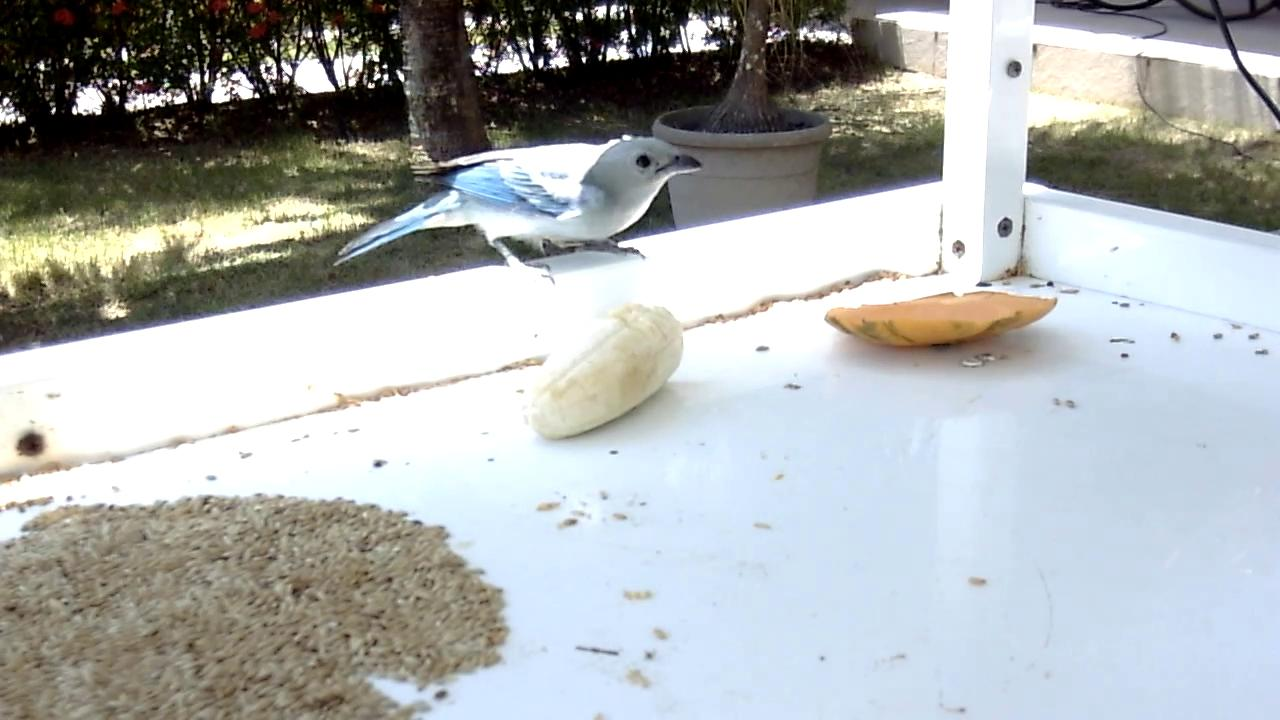sanhaco_da_amazonia: (332, 134, 705, 287)
